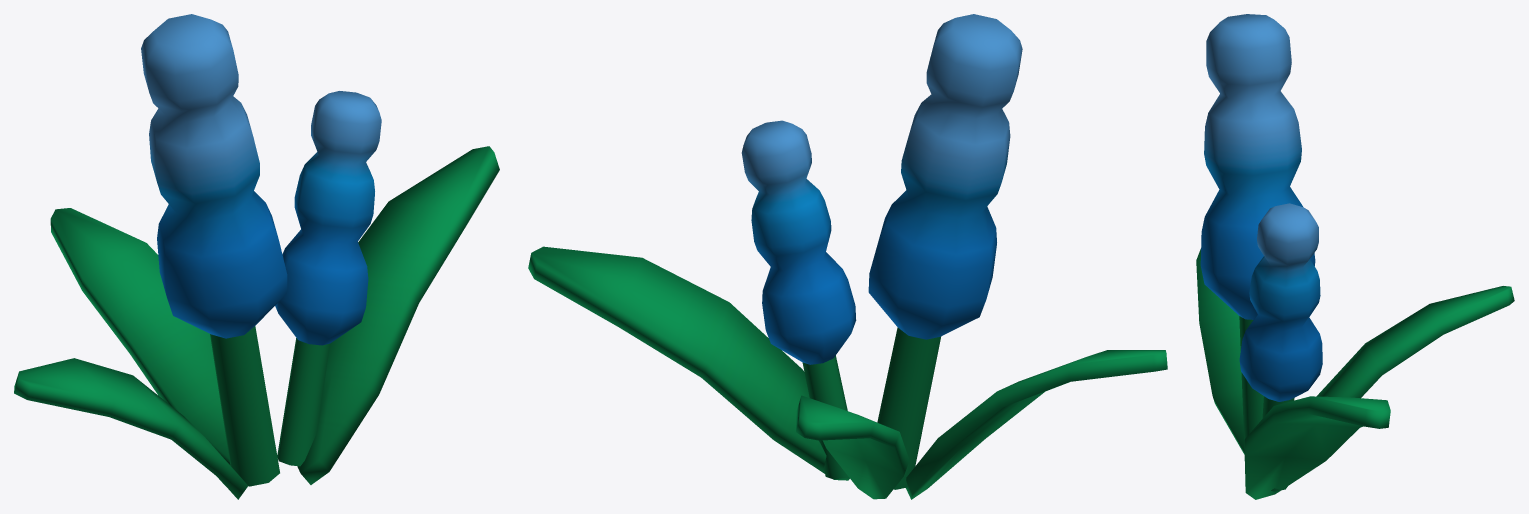
Rendered from Flover_02.fbx.
The picture shows the model from 3 angles, left to right: view 1: azimuth 30°, elevation 25°; view 2: azimuth 150°, elevation 25°; view 3: azimuth 270°, elevation 25°; orthographic projection. The views are drawn at different scales.
Parts seen in each view (by area): view 1: Flover_02; view 2: Flover_02; view 3: Flover_02.
Part boxes in pixels (bbox=[...]): Flover_02: bbox=[14, 14, 499, 499]; Flover_02: bbox=[528, 14, 1167, 499]; Flover_02: bbox=[1196, 14, 1514, 499].
Bounding box in the file's own units: 52.79 × 29.67 × 44.01.
